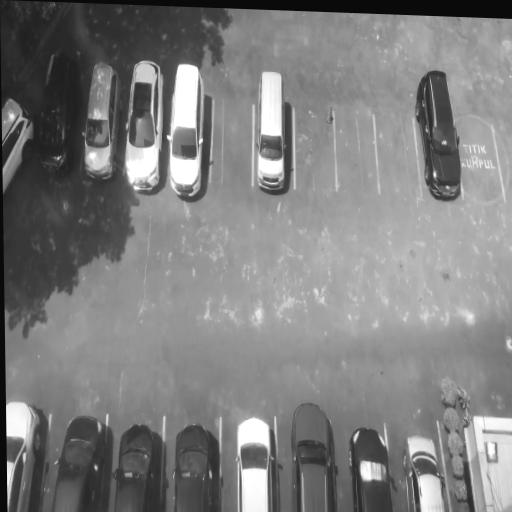Car: (169, 56, 212, 202), (417, 66, 462, 205), (123, 55, 166, 195), (253, 64, 295, 201), (37, 53, 81, 182), (291, 399, 341, 512), (52, 414, 108, 512), (6, 397, 53, 512), (171, 413, 223, 512), (2, 87, 42, 205), (112, 422, 164, 512), (81, 57, 118, 183), (236, 410, 280, 512), (350, 422, 395, 512), (403, 432, 448, 512)
Space Available: (213, 83, 256, 198), (334, 98, 380, 205), (459, 102, 504, 206), (293, 93, 335, 201), (379, 102, 420, 203)
